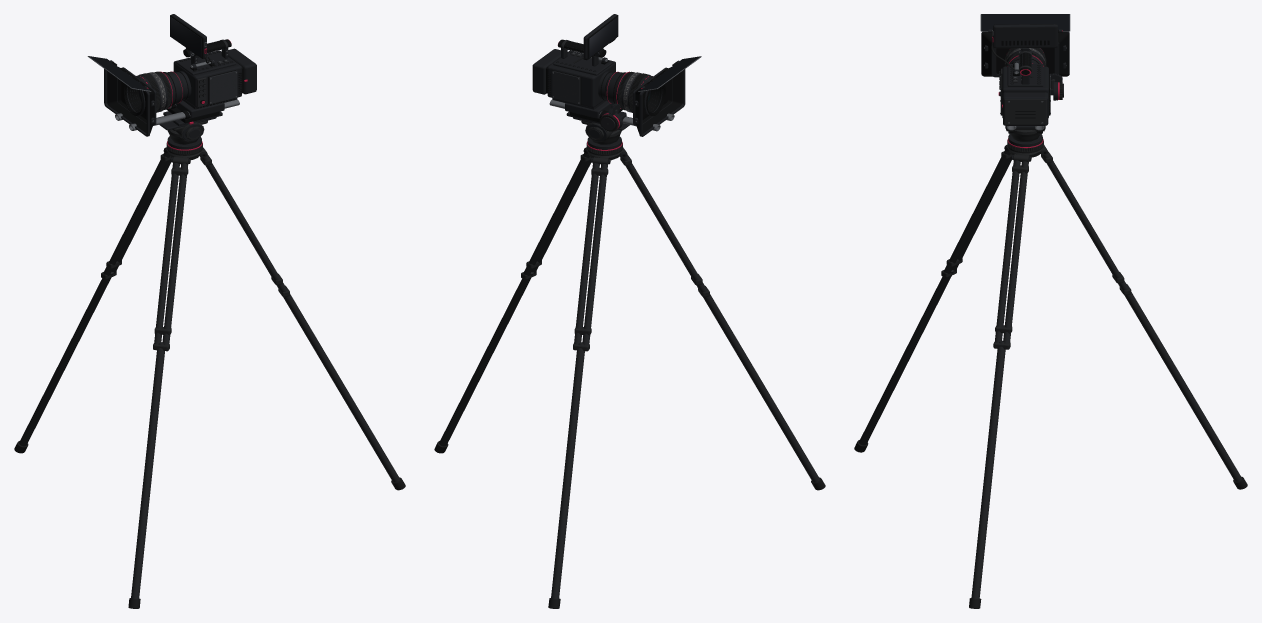
Rendered from avaris-camera-tripod-mobile.glb.
3 renders of one model, left to right at view 1: azimuth 30°, elevation 25°; view 2: azimuth 150°, elevation 25°; view 3: azimuth 270°, elevation 25°, orthographic.
Parts seen in each view (by area): view 1: Fluid head and twin-tube legs, Chassis, Matte box, Cine lens, Support and follow focus, Top handle, Monitor and swivel; view 2: Fluid head and twin-tube legs, Chassis, Matte box, Cine lens, Support and follow focus, Top handle, Monitor and swivel; view 3: Fluid head and twin-tube legs, Matte box, Chassis, Monitor and swivel, Top handle.
Part boxes in pixels (bbox=[...]): Fluid head and twin-tube legs: bbox=[14, 116, 405, 608]; Chassis: bbox=[173, 48, 256, 107]; Matte box: bbox=[87, 56, 156, 136]; Cine lens: bbox=[123, 71, 191, 115]; Support and follow focus: bbox=[115, 98, 239, 130]; Top handle: bbox=[175, 39, 236, 75]; Monitor and swivel: bbox=[170, 14, 211, 63]; Fluid head and twin-tube legs: bbox=[434, 116, 825, 608]; Chassis: bbox=[532, 49, 615, 107]; Matte box: bbox=[633, 56, 701, 136]; Cine lens: bbox=[598, 71, 665, 116]; Support and follow focus: bbox=[549, 98, 674, 131]; Top handle: bbox=[553, 39, 614, 75]; Monitor and swivel: bbox=[573, 14, 618, 63]; Fluid head and twin-tube legs: bbox=[854, 126, 1247, 608]; Matte box: bbox=[980, 14, 1070, 77]; Chassis: bbox=[998, 66, 1050, 125]; Monitor and swivel: bbox=[991, 24, 1058, 77]; Top handle: bbox=[1007, 49, 1043, 86].
Bounding box in the file's own units: 0.8098 × 1.14 × 0.8247.
13 materials, 4 textured.
